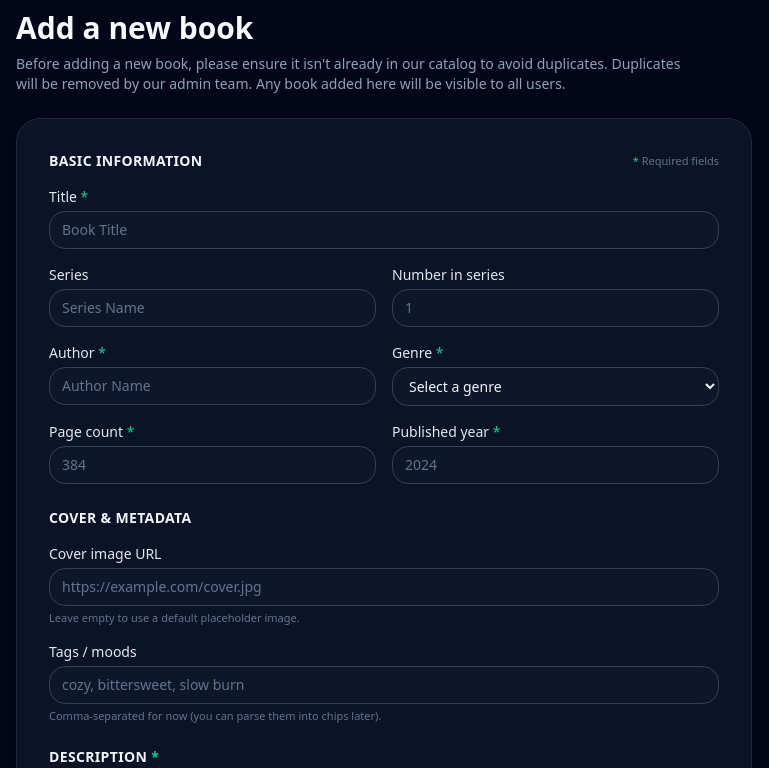
Scenario: BookSaveForm Component › validates required fields on blur
Click the field labelled "Title *" at (384, 230), box [49,211,719,249]
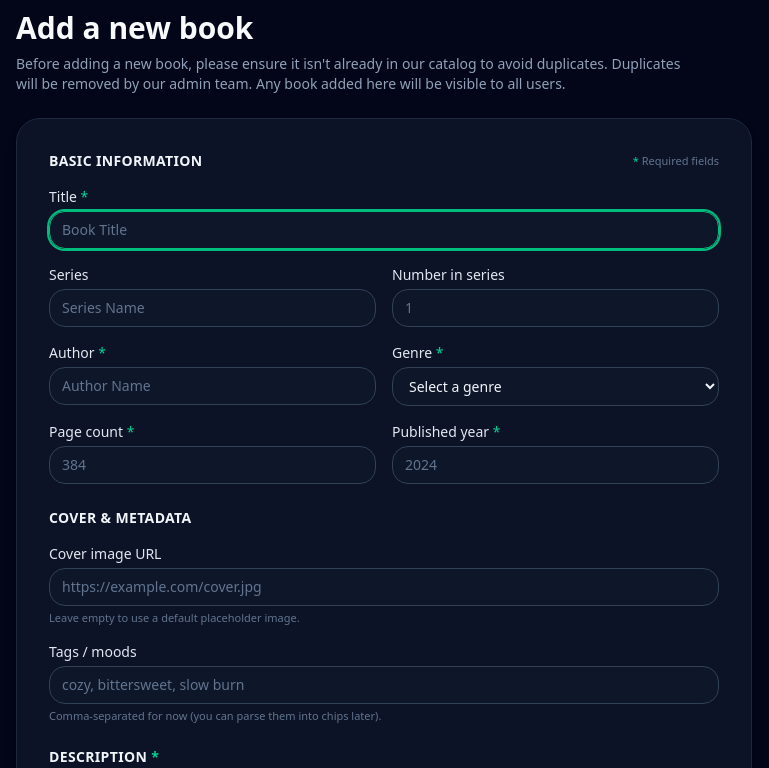
Press Tab
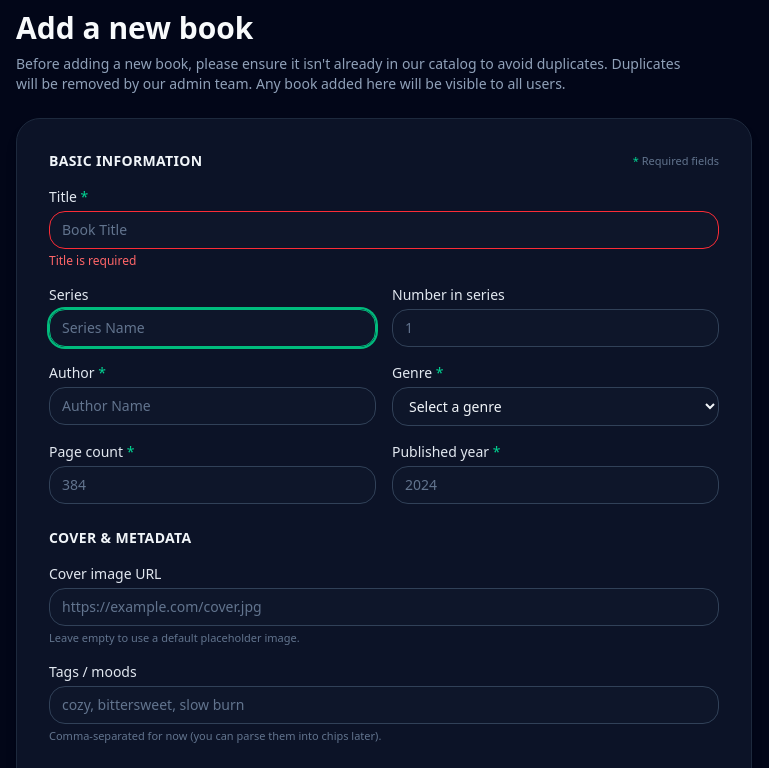
Expected: the text "Title is required" is shown, [49,252,136,269]
